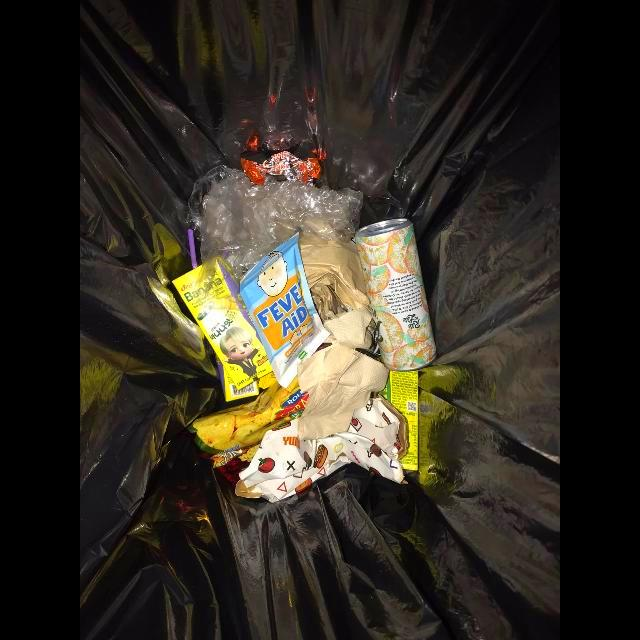aluminum: (355, 218, 437, 372)
food_wrapper: (188, 377, 309, 485), (241, 151, 322, 186)
paper: (235, 398, 410, 504), (297, 343, 390, 441), (298, 224, 371, 315), (324, 308, 375, 349)
plastic_bag: (188, 166, 364, 317), (240, 233, 330, 389)
